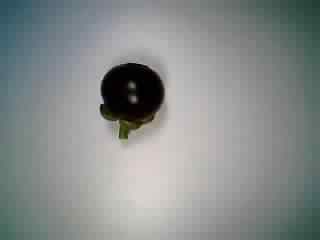mangosteen: (97, 60, 169, 144)
